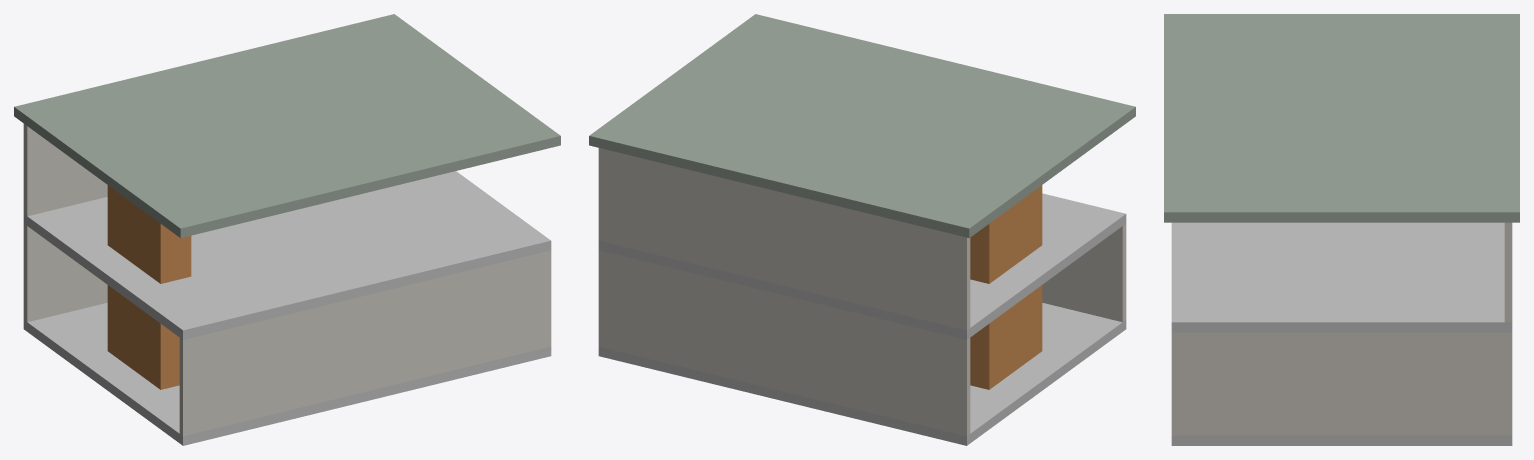
The model's file is sample_house.glb.
The picture shows the model from 3 angles, left to right: view 1: azimuth 30°, elevation 25°; view 2: azimuth 150°, elevation 25°; view 3: azimuth 270°, elevation 25°; orthographic projection. The views are drawn at different scales.
Parts seen in each view (by area): view 1: Roof, 2F_slab, 1F_wall_S, 1F_slab, Stair, 1F_wall_N, 2F_wall_N; view 2: Roof, 1F_wall_N, 2F_wall_N, 2F_slab, 1F_slab, Stair, 1F_wall_S; view 3: Roof, 2F_slab, 1F_wall_E, 1F_slab, 1F_wall_S, 1F_wall_N, 2F_wall_N.
Part boxes in pixels (bbox=[...]): Roof: bbox=[14, 14, 560, 238]; 2F_slab: bbox=[23, 171, 551, 339]; 1F_wall_S: bbox=[179, 250, 551, 436]; 1F_slab: bbox=[23, 303, 551, 445]; Stair: bbox=[107, 185, 191, 389]; 1F_wall_N: bbox=[23, 223, 107, 322]; 2F_wall_N: bbox=[23, 124, 107, 216]; Roof: bbox=[589, 14, 1135, 238]; 1F_wall_N: bbox=[598, 250, 970, 436]; 2F_wall_N: bbox=[598, 148, 970, 330]; 2F_slab: bbox=[598, 193, 1126, 339]; 1F_slab: bbox=[598, 303, 1126, 445]; Stair: bbox=[970, 185, 1042, 389]; 1F_wall_S: bbox=[1042, 223, 1126, 322]; Roof: bbox=[1164, 14, 1519, 222]; 2F_slab: bbox=[1171, 222, 1512, 332]; 1F_wall_E: bbox=[1172, 332, 1512, 435]; 1F_slab: bbox=[1171, 435, 1512, 445]; 1F_wall_S: bbox=[1171, 332, 1179, 435]; 1F_wall_N: bbox=[1504, 332, 1512, 435]; 2F_wall_N: bbox=[1504, 222, 1512, 322].
Size of the model in its own units: 12.4 by 6.9 by 9.4.
